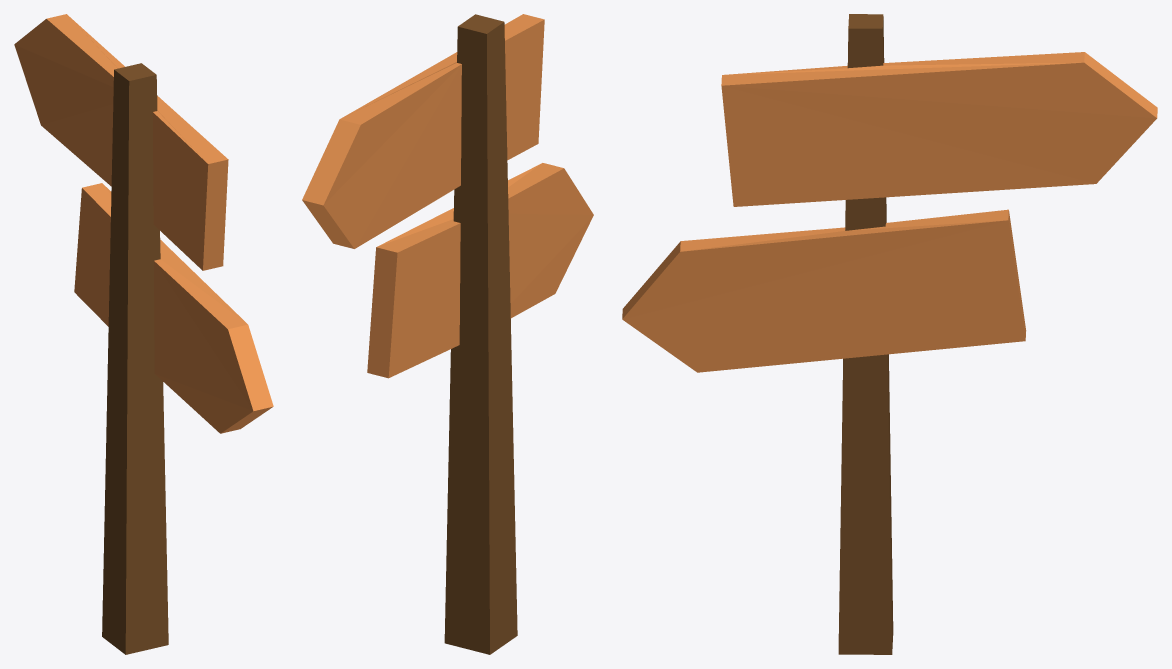
The model's file is sign.glb.
The picture shows the model from 3 angles, left to right: view 1: azimuth 30°, elevation 25°; view 2: azimuth 150°, elevation 25°; view 3: azimuth 270°, elevation 25°; orthographic projection. The views are drawn at different scales.
Parts seen in each view (by area): view 1: signpost; view 2: signpost; view 3: signpost.
Boxes of the visible parts, x1,y1,x2,y2 form: signpost: (14,14,273,654); signpost: (302,14,593,654); signpost: (622,14,1157,654).
Size of the model in its own units: 0.7933 by 7.98 by 6.23.
